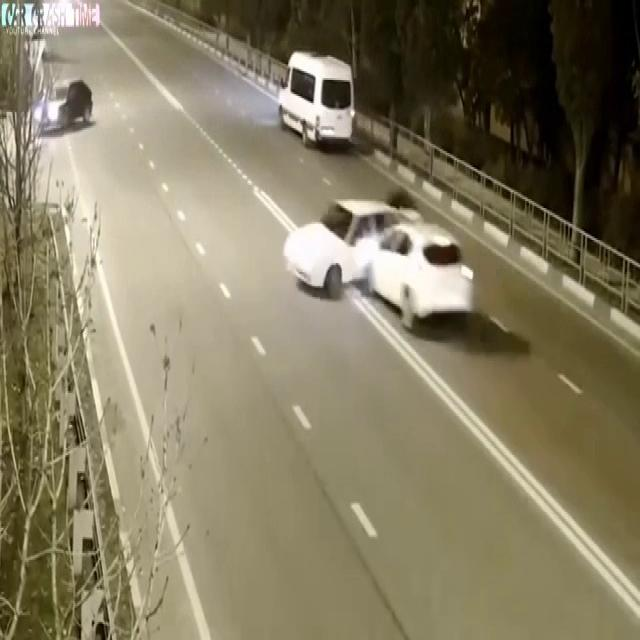accident: (260, 170, 491, 328)
